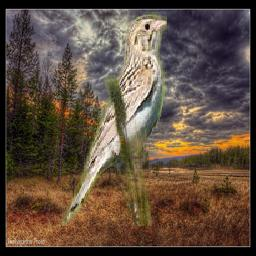Sparrow: (63, 12, 168, 226)
